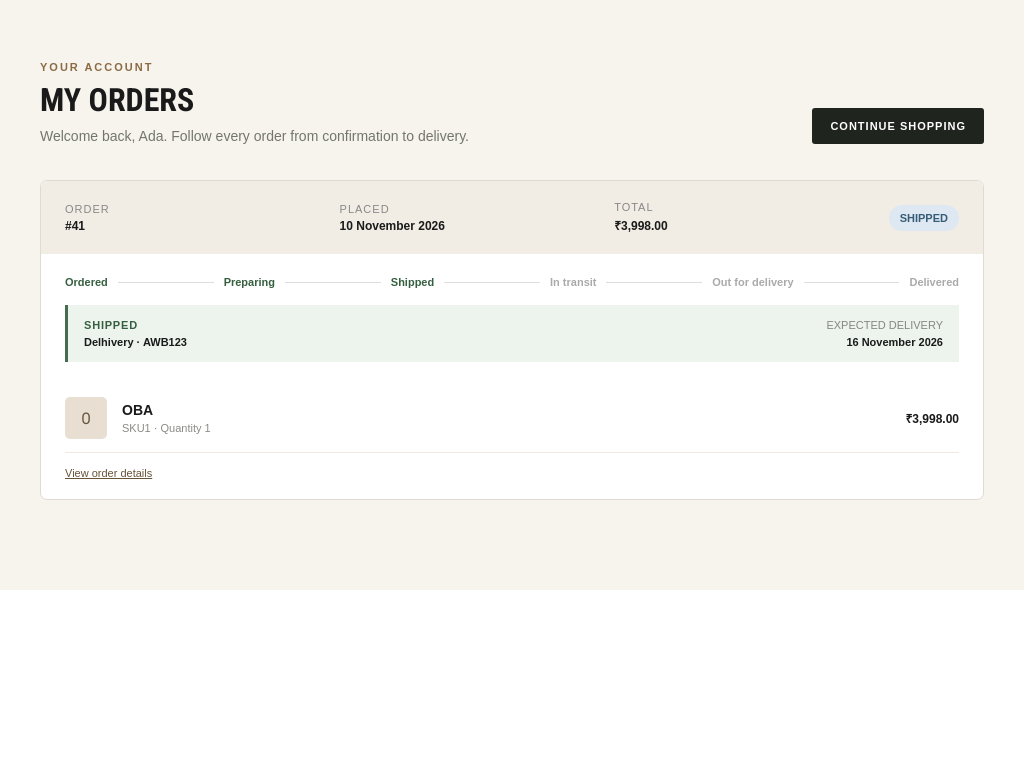
Test: an in-transit order shows the courier's expected delivery date
This screenshot has width=1024, height=768.
Expected: the text "#41" is shown, [65,218,85,232]
Expected: the text "Expected delivery" is shown, [826,319,943,331]
What coordinates should you click on to do the following:
click the button "View order details"
I would click on:
 (109, 473)
Its box is [65,467,152,479].
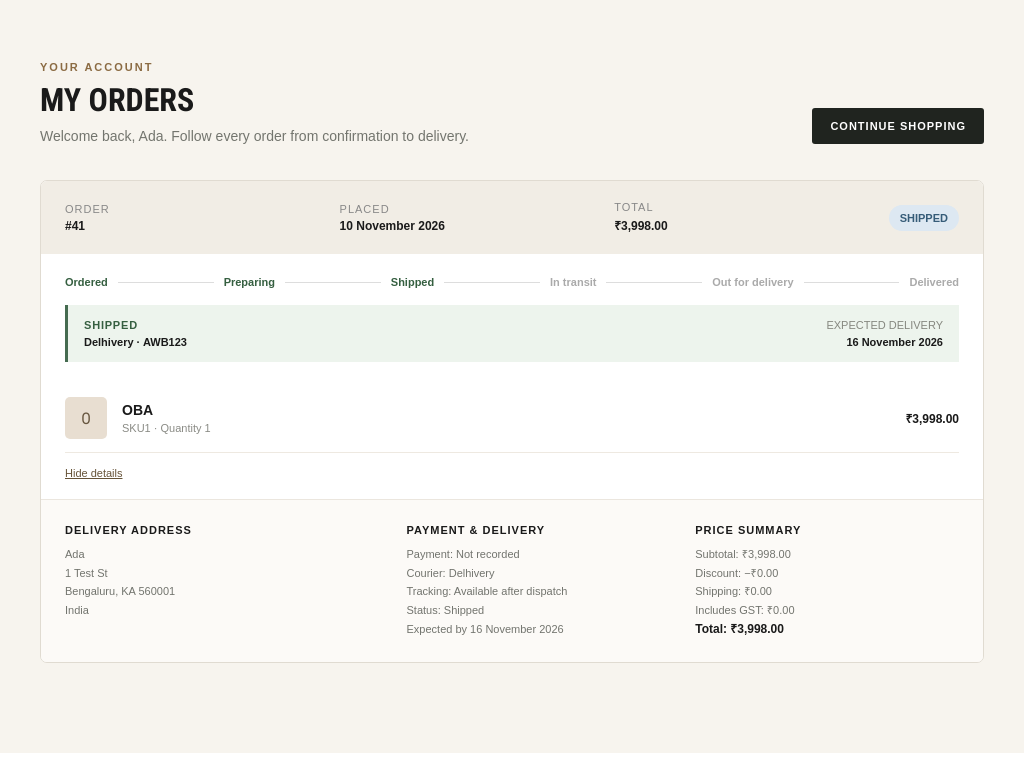
Now the text "Expected by 16 November 2026" is shown, box [406,623,564,635]
